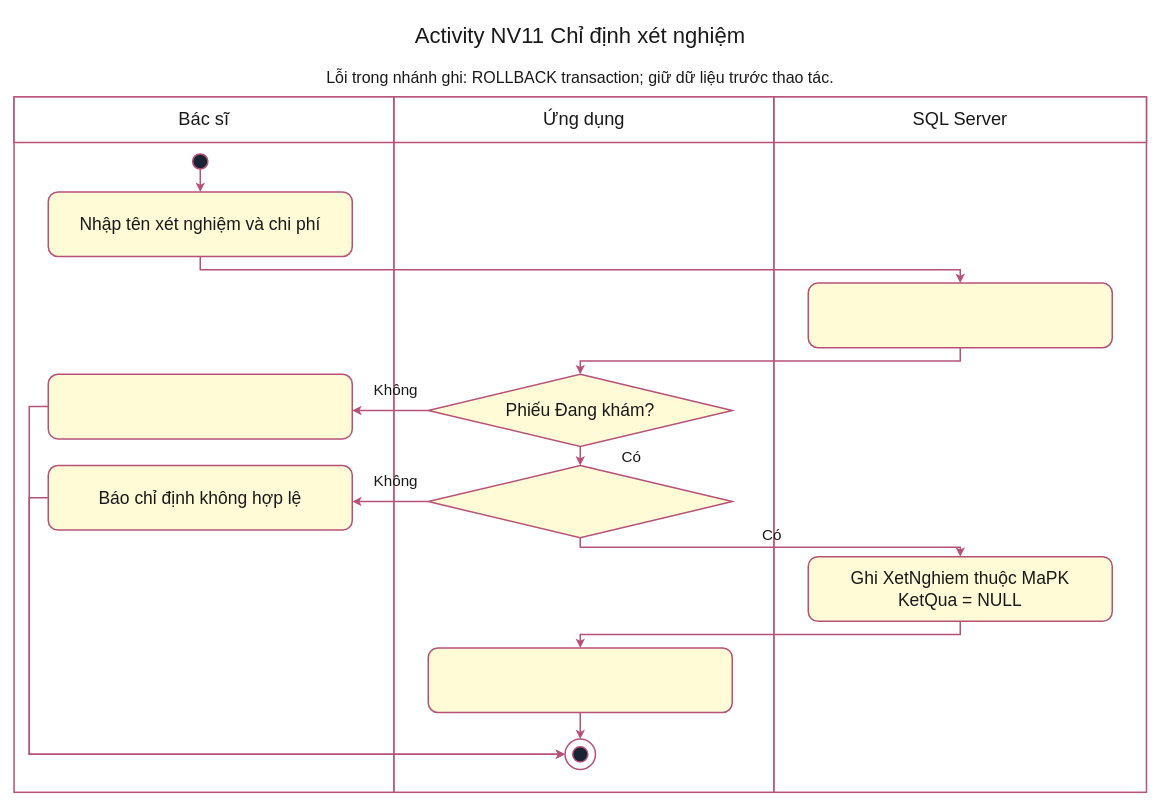
Image size: 1160x806. Some labels were removed from this diagram. The shapes that lost their labels are listed below. From the top down, each one's centre as x and y in pixels, then its label:
At point (960, 315): "Đọc trạng thái phiếu khám".
At point (200, 406): "Từ chối sửa phiếu đã kết luận".
At point (580, 501): "Tên đủ; chi phí ≥ 0?".
At point (580, 680): "COMMIT; tải danh sách chỉ định".
